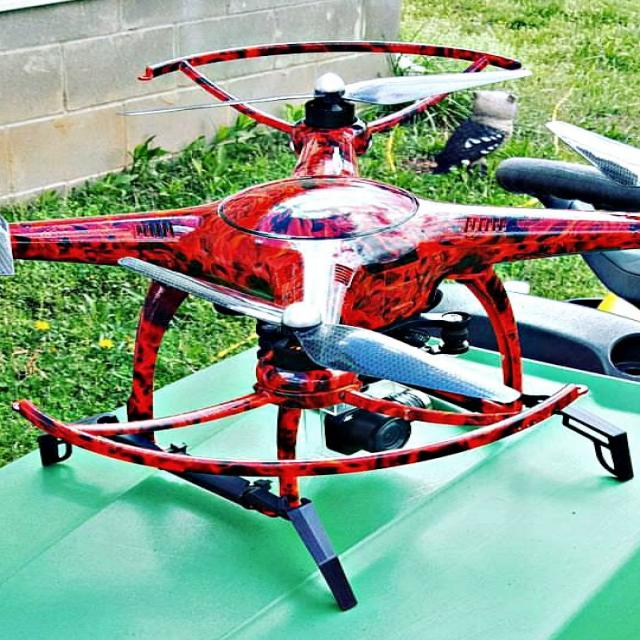drone: (0, 53, 640, 554)
